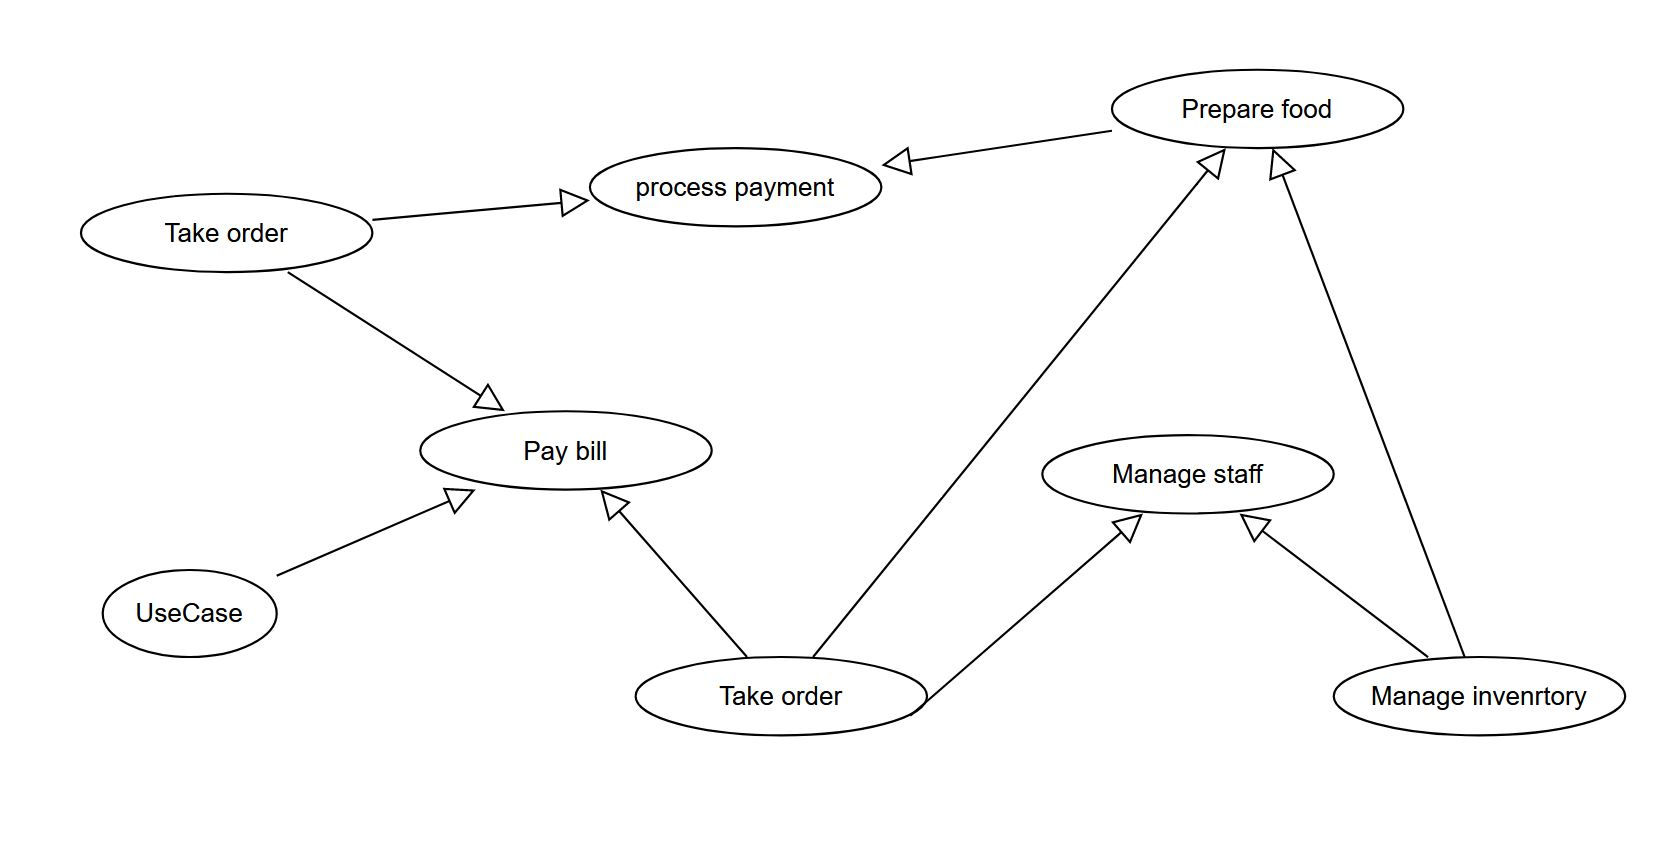generalization: (820, 148, 1225, 657), (1269, 145, 1466, 654), (924, 513, 1146, 707), (287, 270, 502, 410), (1240, 513, 1425, 659), (596, 489, 746, 654), (276, 487, 476, 576), (883, 124, 1120, 175), (373, 188, 594, 227)
text: (1365, 679, 1586, 713), (629, 171, 839, 203), (1099, 456, 1266, 494), (129, 593, 248, 631), (1178, 93, 1335, 122), (708, 682, 845, 710), (513, 431, 615, 465), (159, 222, 292, 245)
use_case: (1112, 68, 1405, 151), (592, 145, 883, 228), (635, 656, 925, 739), (1039, 435, 1333, 513), (81, 192, 374, 271), (1333, 656, 1625, 734), (420, 411, 712, 488), (105, 570, 278, 656)
